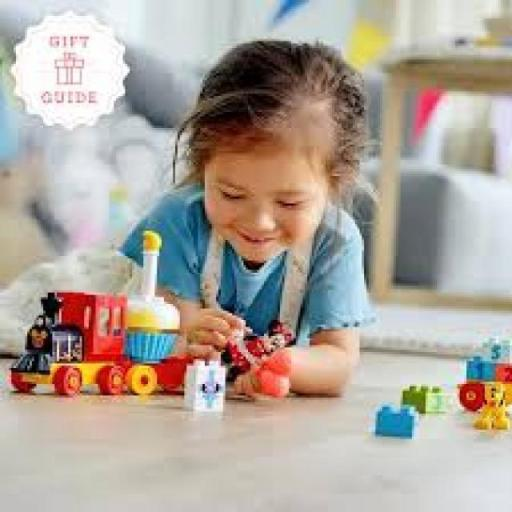baby: (157, 39, 375, 394)
